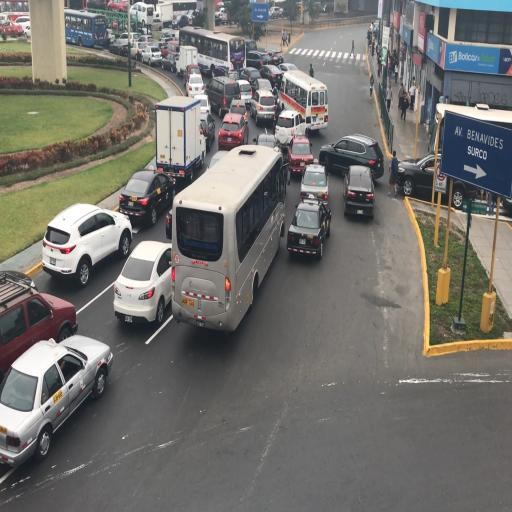auto: (2, 334, 115, 470), (1, 270, 76, 394), (42, 200, 131, 284), (394, 150, 499, 210), (113, 239, 173, 324), (119, 169, 176, 228), (322, 133, 378, 181), (342, 164, 374, 220), (299, 162, 328, 206), (218, 111, 248, 150), (288, 136, 314, 178), (251, 87, 277, 126), (254, 132, 278, 164), (238, 66, 264, 94), (258, 64, 284, 91), (235, 76, 254, 110), (228, 96, 250, 125), (246, 49, 274, 71), (0, 16, 22, 39), (196, 94, 212, 124), (141, 44, 162, 66), (135, 34, 154, 55), (160, 51, 179, 72), (14, 16, 32, 38), (119, 31, 139, 49), (129, 38, 145, 60), (278, 63, 299, 78), (164, 40, 180, 58), (107, 0, 126, 12), (268, 6, 282, 20), (220, 12, 229, 25)
bus: (172, 144, 282, 325), (277, 68, 327, 133), (179, 26, 235, 79), (65, 8, 108, 48), (130, 1, 155, 28)
camion: (154, 95, 204, 191), (177, 44, 199, 80), (154, 0, 175, 27)
